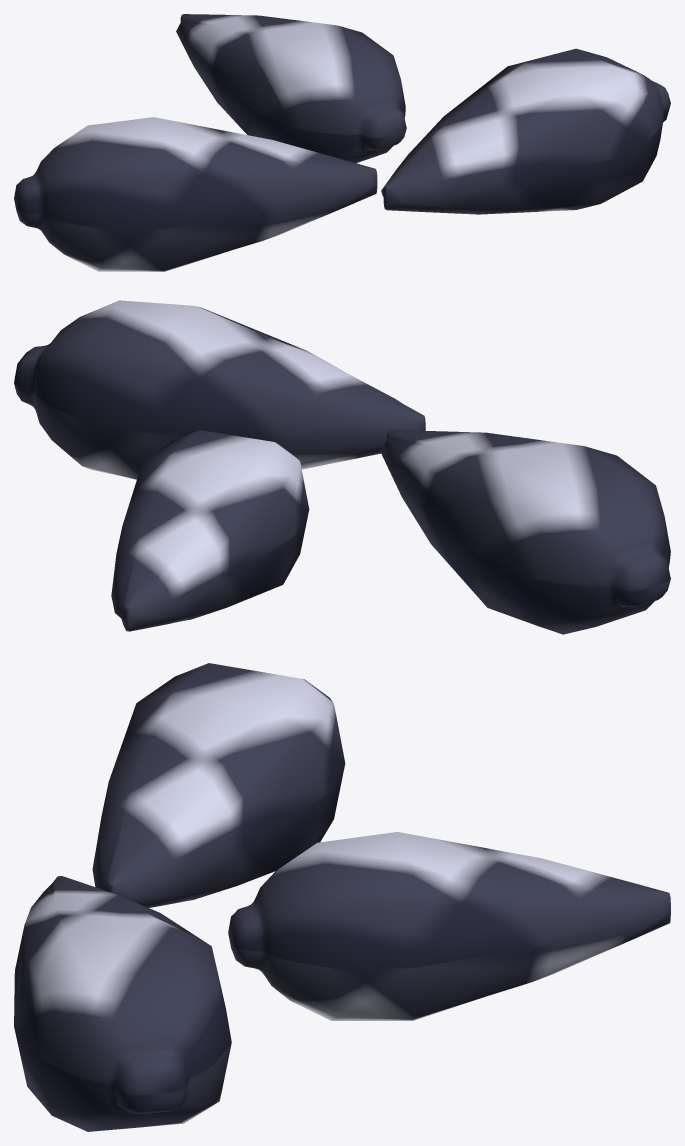
Rendered from Cotton Seed Versio2.fbx.
3 renders of one model, top to bottom at view 1: azimuth 30°, elevation 25°; view 2: azimuth 150°, elevation 25°; view 3: azimuth 270°, elevation 25°, orthographic. The views are drawn at different scales.
Visible parts, largest first — view 1: Cotton_Seed_Drop3; view 2: Cotton_Seed_Drop3; view 3: Cotton_Seed_Drop3.
Part boxes in pixels (x1,y1,x2,y2): Cotton_Seed_Drop3: (14, 14, 670, 271); Cotton_Seed_Drop3: (14, 300, 670, 634); Cotton_Seed_Drop3: (14, 663, 670, 1131).
Bounding box in the file's own units: 12.39 × 2.45 × 8.8.
1 material, 1 textured.
